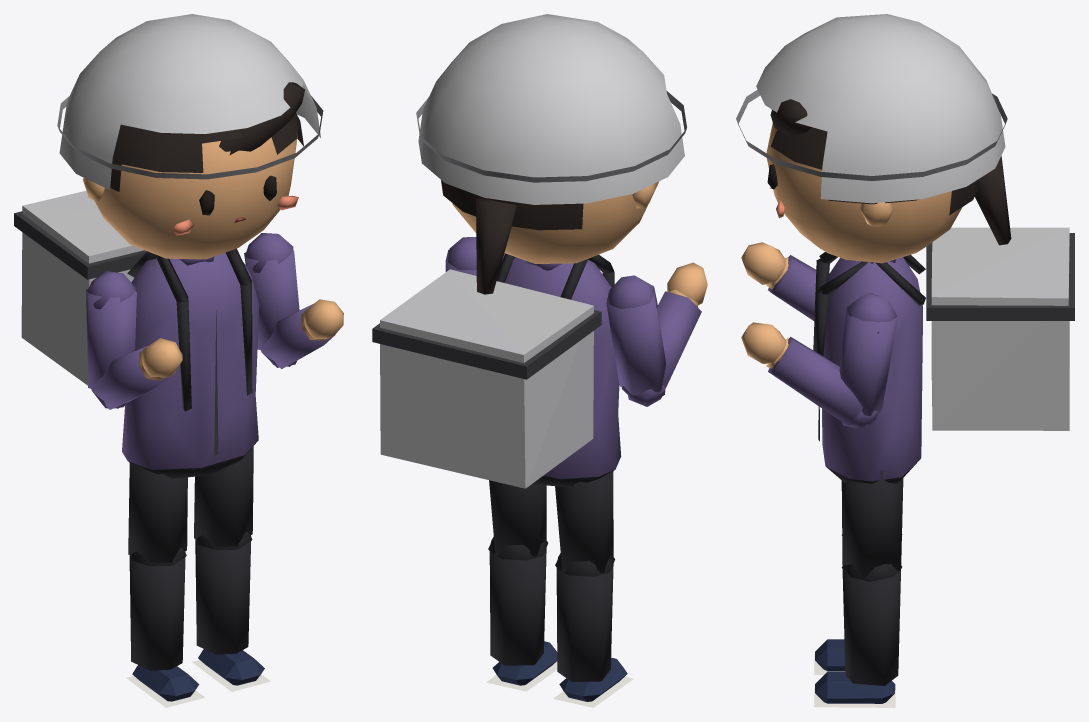
The model's file is era4_delivery_rider.glb.
3 renders of one model, left to right at view 1: azimuth 30°, elevation 25°; view 2: azimuth 150°, elevation 25°; view 3: azimuth 270°, elevation 25°, orthographic.
Parts seen in each view (by area): view 1: head, body, shin_L, shin_R, leg_R, leg_L, arm_R, arm_L, forearm_R, forearm_L; view 2: head, body, shin_R, shin_L, arm_R, leg_R, leg_L, forearm_R, arm_L; view 3: head, body, shin_L, leg_L, arm_L, forearm_L, forearm_R, shin_R.
Part boxes in pixels (<box>): head: <box>57,14,323,259</box>; body: <box>14,191,259,478</box>; shin_L: <box>192,535,270,691</box>; shin_R: <box>126,551,205,707</box>; leg_R: <box>128,463,187,565</box>; leg_L: <box>194,446,253,549</box>; arm_R: <box>86,271,136,408</box>; arm_L: <box>244,233,299,367</box>; forearm_R: <box>91,338,182,409</box>; forearm_L: <box>261,299,343,368</box>; head: <box>416,14,686,294</box>; body: <box>372,253,621,488</box>; shin_R: <box>553,553,633,707</box>; shin_L: <box>486,537,557,691</box>; arm_R: <box>606,275,665,406</box>; leg_R: <box>555,471,614,576</box>; leg_L: <box>488,480,547,560</box>; forearm_R: <box>628,262,707,405</box>; arm_L: <box>445,237,476,275</box>; head: <box>736,14,1011,263</box>; body: <box>813,227,1074,484</box>; shin_L: <box>814,564,900,707</box>; leg_L: <box>841,471,903,582</box>; arm_L: <box>839,293,897,429</box>; forearm_L: <box>741,322,877,425</box>; forearm_R: <box>741,242,816,320</box>; shin_R: <box>814,534,845,674</box>.
Bounding box in the file's own units: 0.5661 × 1.51 × 0.7062.
